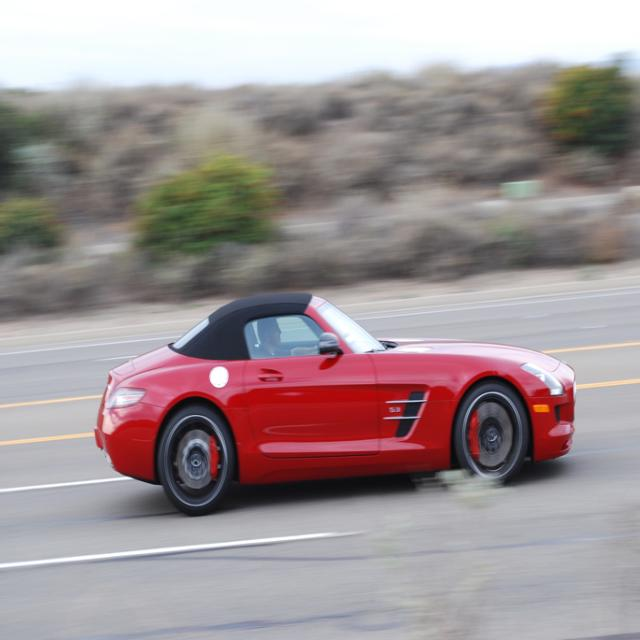car: (95, 284, 577, 517)
